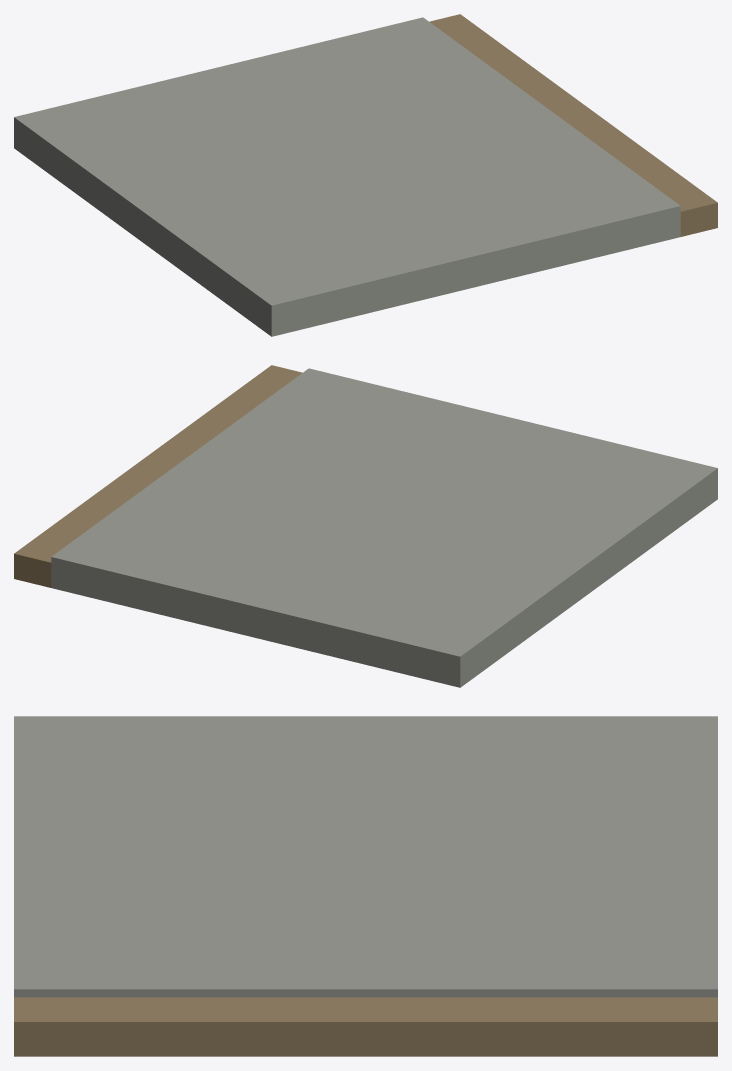
File: trail.fbx
3 renders of one model, top to bottom at view 1: azimuth 30°, elevation 25°; view 2: azimuth 150°, elevation 25°; view 3: azimuth 270°, elevation 25°, orthographic. The views are drawn at different scales.
Parts seen in each view (by area): view 1: a2000/800/trail; view 2: a2000/800/trail; view 3: a2000/800/trail.
Boxes of the visible parts, <box> form: a2000/800/trail: <box>14,14,717,336</box>; a2000/800/trail: <box>14,365,717,687</box>; a2000/800/trail: <box>14,716,717,1056</box>.
Size of the model in its own units: 1.2 by 0.08 by 1.2.
